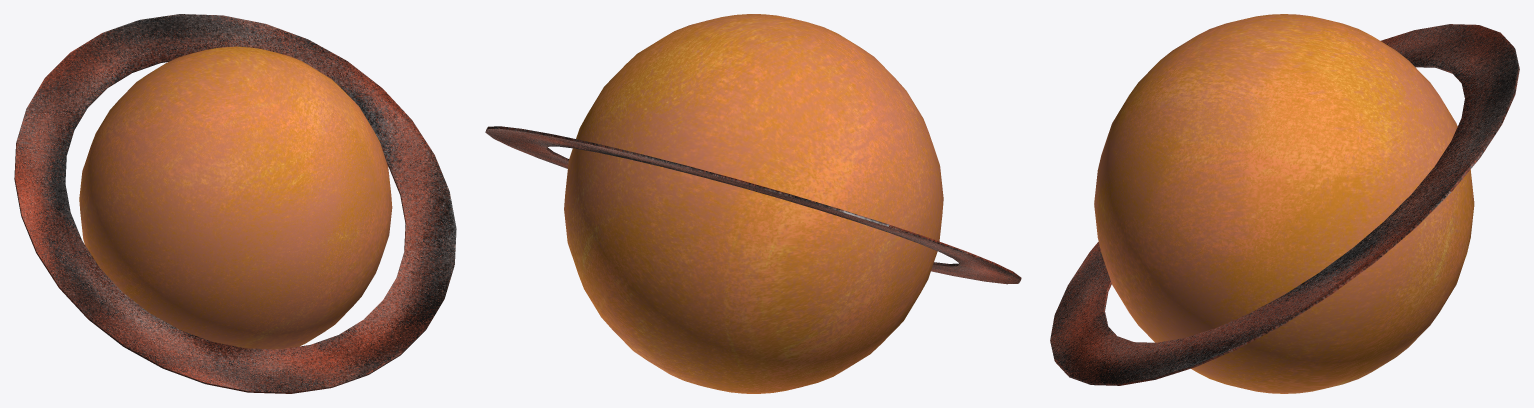
File: PLANETA.fbx
3 views of the same model, side by side, from view 1: azimuth 30°, elevation 25°; view 2: azimuth 150°, elevation 25°; view 3: azimuth 270°, elevation 25° (orthographic). The views are drawn at different scales.
Parts seen in each view (by area): view 1: Sphere, Sphere.002; view 2: Sphere, Sphere.002; view 3: Sphere, Sphere.002.
Boxes of the visible parts, box(x1,y1,x2,y2) form: Sphere: box(79, 46, 392, 349); Sphere.002: box(14, 14, 456, 393); Sphere: box(564, 14, 943, 393); Sphere.002: box(485, 126, 1021, 284); Sphere: box(1094, 14, 1474, 393); Sphere.002: box(1050, 24, 1519, 385).
Size of the model in its own units: 13062 by 8917 by 11014.
